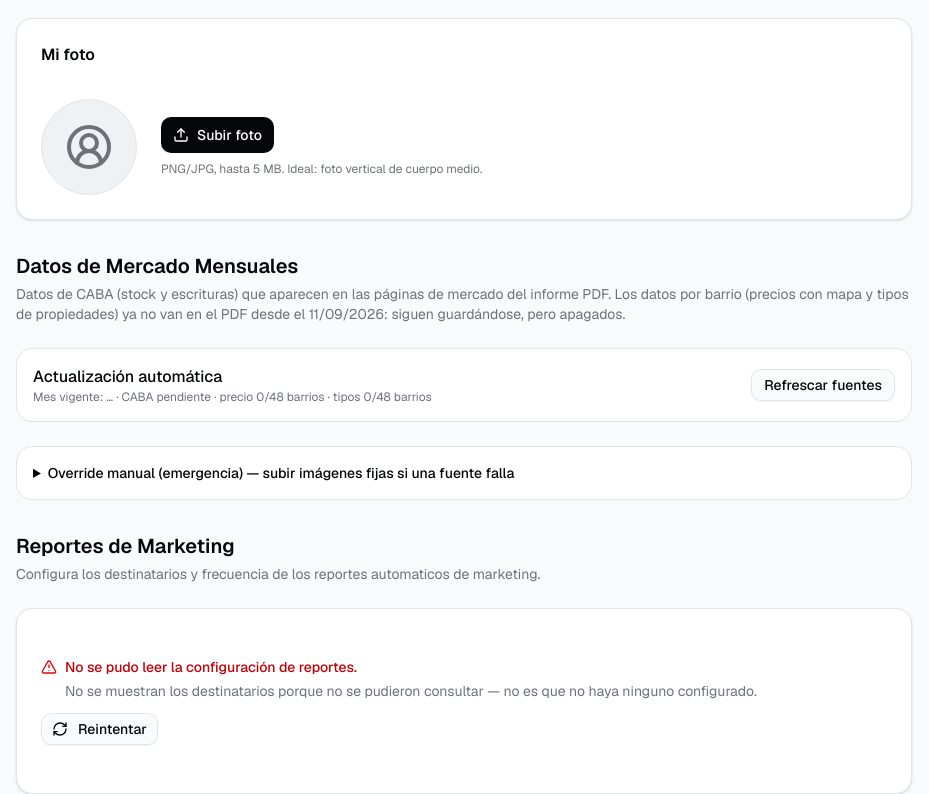
Scenario: SettingsPage — destinatarios de reportes: no se pudo leer ≠ no hay ninguno › "Reintentar" vuelve a pedir y, si esta vez sale bien, aparece el formulario
(page scrolled)
Click the button "Reintentar". click: [99, 729]
box: [41,713,158,745]
(page scrolled)
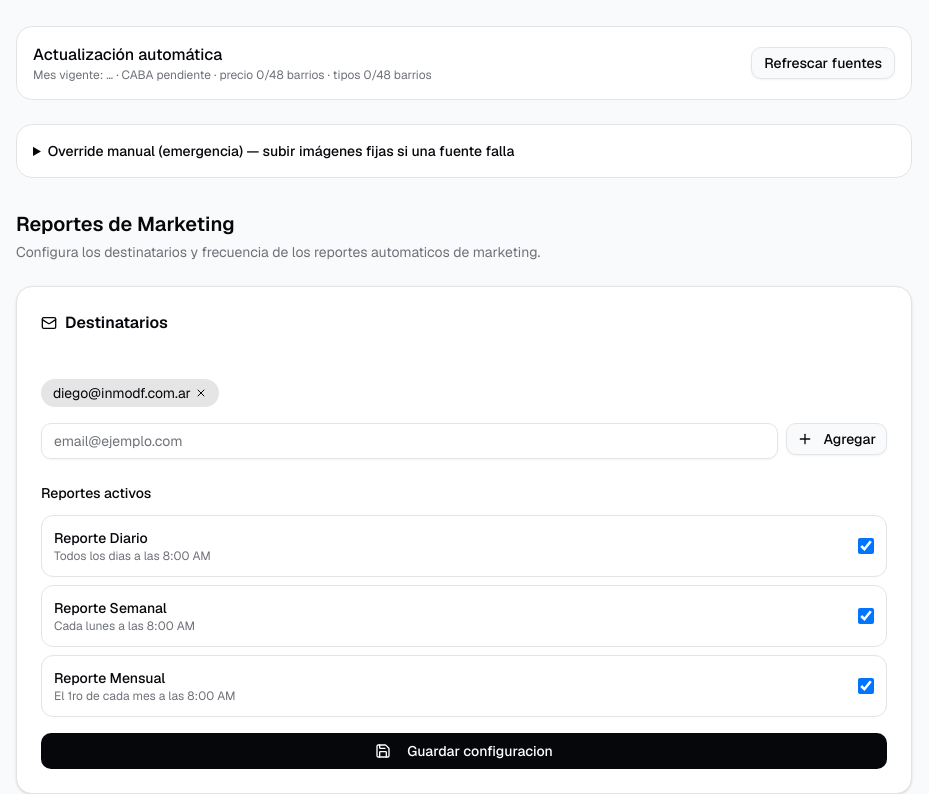
Expected: the text "diego@inmodf.com.ar" is shown, [41,379,219,407]
Expected: the button "Guardar configuracion" is shown, [41,733,887,769]
